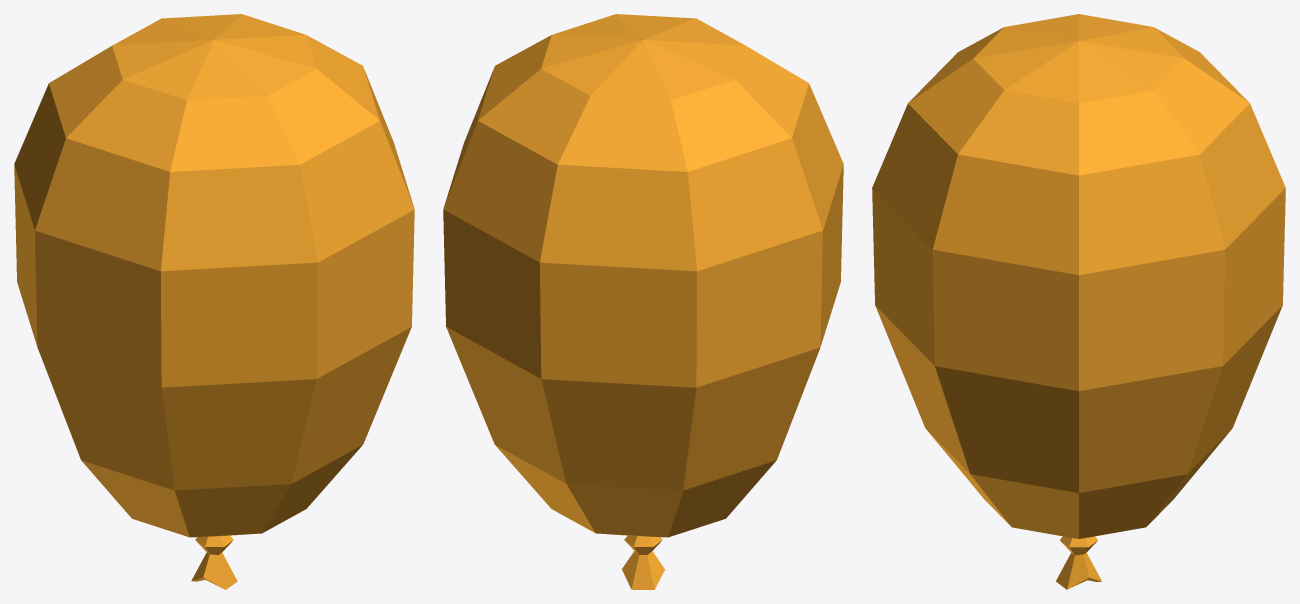
The model's file is SM_Balloon_Small_Star.fbx.
3 renders of one model, left to right at view 1: azimuth 30°, elevation 25°; view 2: azimuth 150°, elevation 25°; view 3: azimuth 270°, elevation 25°, orthographic.
Visible parts, largest first — view 1: balloon-small-star; view 2: balloon-small-star; view 3: balloon-small-star.
Part boxes in pixels (x1,y1,x2,y2): balloon-small-star: (14, 14, 414, 589); balloon-small-star: (443, 14, 843, 589); balloon-small-star: (872, 14, 1285, 589).
Size of the model in its own units: 0.2621 by 0.3781 by 0.2621.
